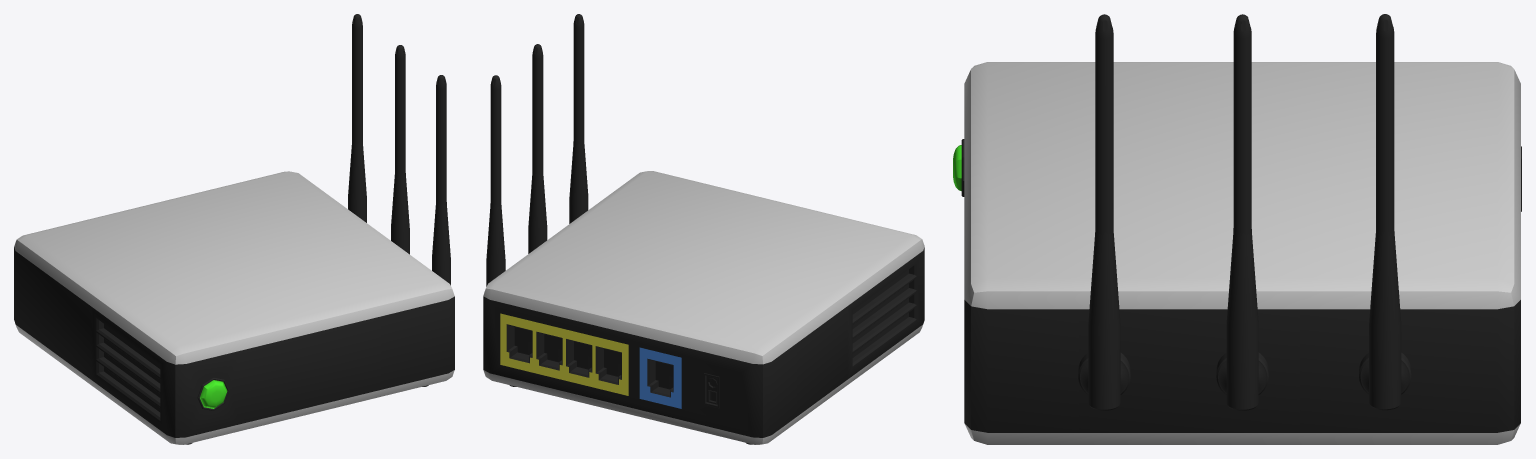
Rendered from router.glb.
The picture shows the model from 3 angles, left to right: view 1: azimuth 30°, elevation 25°; view 2: azimuth 150°, elevation 25°; view 3: azimuth 270°, elevation 25°; orthographic projection. The views are drawn at different scales.
Visible parts, largest first — view 1: Cube.117, Cylinder.092, Cylinder.093, Cylinder.094; view 2: Cube.117, Cylinder.092, Cylinder.093, Cylinder.094; view 3: Cube.117, Cylinder.093, Cylinder.092, Cylinder.094.
Part boxes in pixels (x1,y1,x2,y2): Cube.117: (14, 171, 454, 444); Cylinder.092: (432, 75, 450, 285); Cylinder.093: (391, 45, 409, 254); Cylinder.094: (348, 14, 366, 222); Cube.117: (483, 171, 924, 444); Cylinder.092: (569, 14, 588, 223); Cylinder.093: (528, 44, 547, 253); Cylinder.094: (486, 75, 505, 286); Cube.117: (953, 62, 1521, 444); Cylinder.093: (1216, 14, 1268, 410); Cylinder.092: (1078, 14, 1130, 410); Cylinder.094: (1359, 14, 1411, 410).
Bounding box in the file's own units: 0.6603 × 0.5493 × 0.6089.
Materials: 1 (1 with a texture image).
